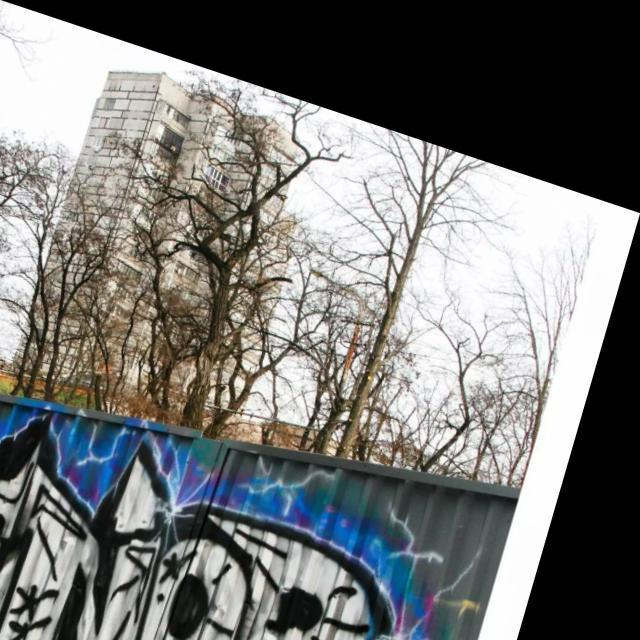-: (0, 367, 498, 640)
